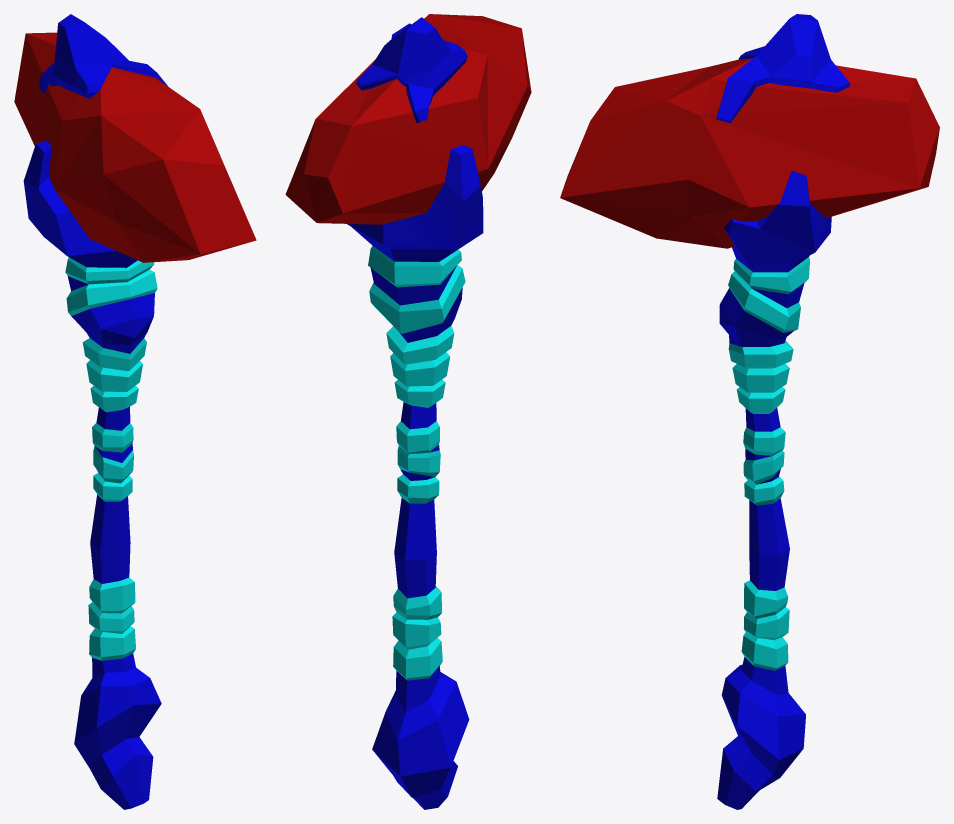
The model's file is Greathammer_Legendary_Crystal.fbx.
3 renders of one model, left to right at view 1: azimuth 30°, elevation 25°; view 2: azimuth 150°, elevation 25°; view 3: azimuth 270°, elevation 25°, orthographic. The views are drawn at different scales.
Visible parts, largest first — view 1: SM_Wep_Goblin_Gem_Hammer_01; view 2: SM_Wep_Goblin_Gem_Hammer_01; view 3: SM_Wep_Goblin_Gem_Hammer_01.
Boxes of the visible parts, left/top/right/bottom form: SM_Wep_Goblin_Gem_Hammer_01: left=14, top=14, right=256, bottom=809; SM_Wep_Goblin_Gem_Hammer_01: left=285, top=14, right=531, bottom=809; SM_Wep_Goblin_Gem_Hammer_01: left=560, top=14, right=939, bottom=809.
Bounding box in the file's own units: 0.2728 × 1.46 × 0.6435.
